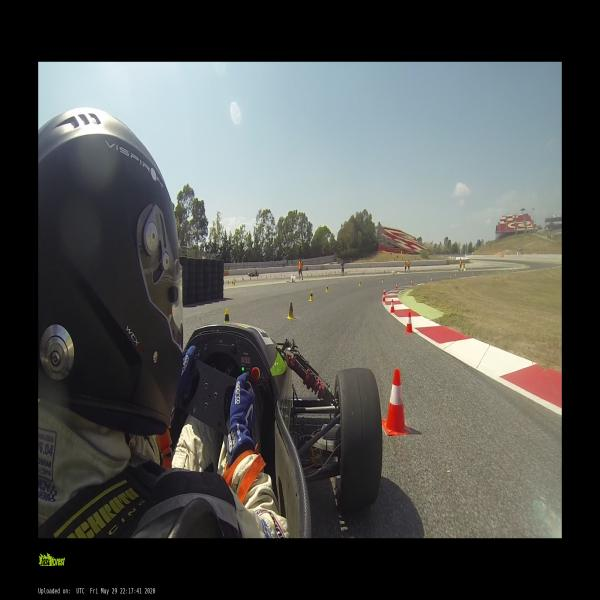orange_cone: (380, 371, 411, 437), (404, 312, 414, 334), (389, 299, 395, 313), (381, 291, 386, 302), (382, 288, 386, 296), (395, 283, 398, 289), (410, 280, 412, 285), (430, 278, 432, 282), (450, 276, 452, 280), (486, 273, 488, 275), (498, 272, 500, 274), (506, 270, 508, 272), (473, 274, 474, 277), (518, 270, 519, 272)
yellow_cone: (286, 301, 294, 319), (308, 290, 314, 302), (225, 309, 230, 322), (325, 284, 329, 292), (358, 280, 361, 286), (381, 278, 384, 282), (405, 276, 407, 280), (233, 282, 235, 286), (427, 274, 429, 277), (455, 272, 456, 276), (232, 281, 233, 284), (243, 278, 244, 281), (257, 277, 258, 280), (472, 272, 473, 274), (484, 271, 485, 273), (250, 278, 251, 280), (496, 270, 496, 272), (228, 280, 228, 284)
